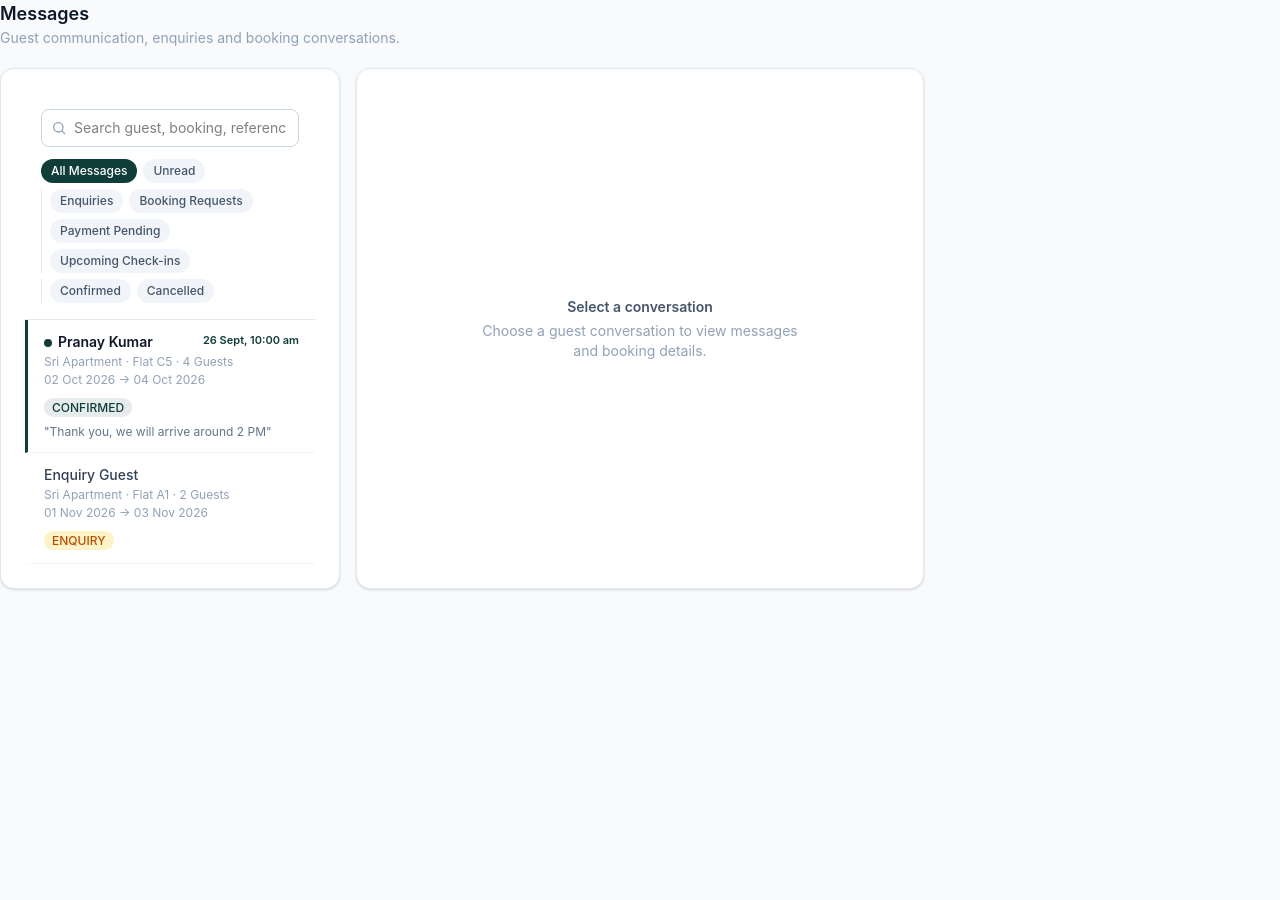
MessagesPage › opening a conversation loads messages, marks it read, and loads booking details
What coordinates should you click on to do the following:
click the text "Pranay Kumar"
I would click on:
 (98, 342)
Its box is [44,332,153,352].
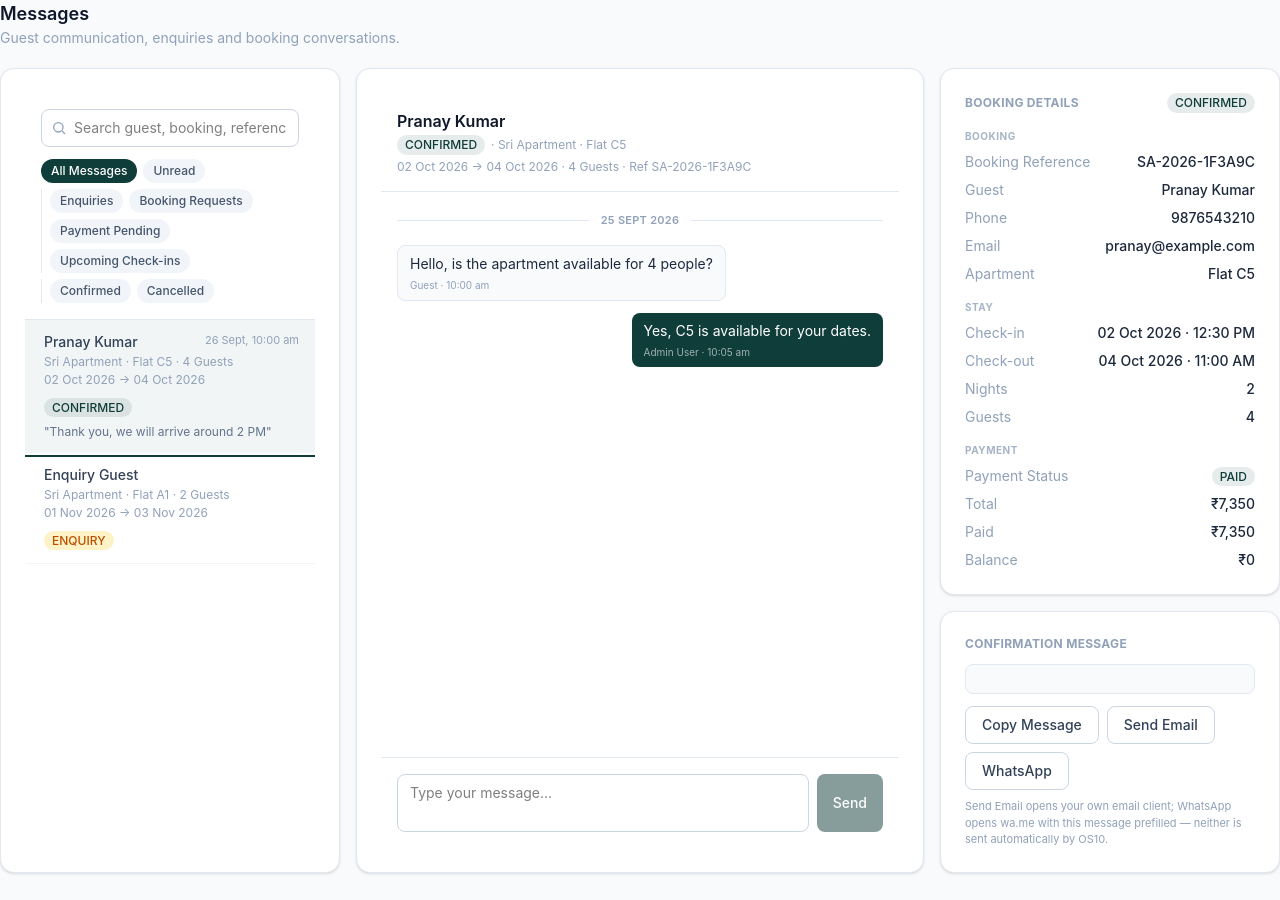
Result: the text "Hello, is the apartment available for 4 people?" is shown at [410,254,713,274]
Result: the text "Yes, C5 is available for your dates." is shown at [644,321,871,341]
Result: the text "SA-2026-1F3A9C" is shown at [1137,152,1255,172]
